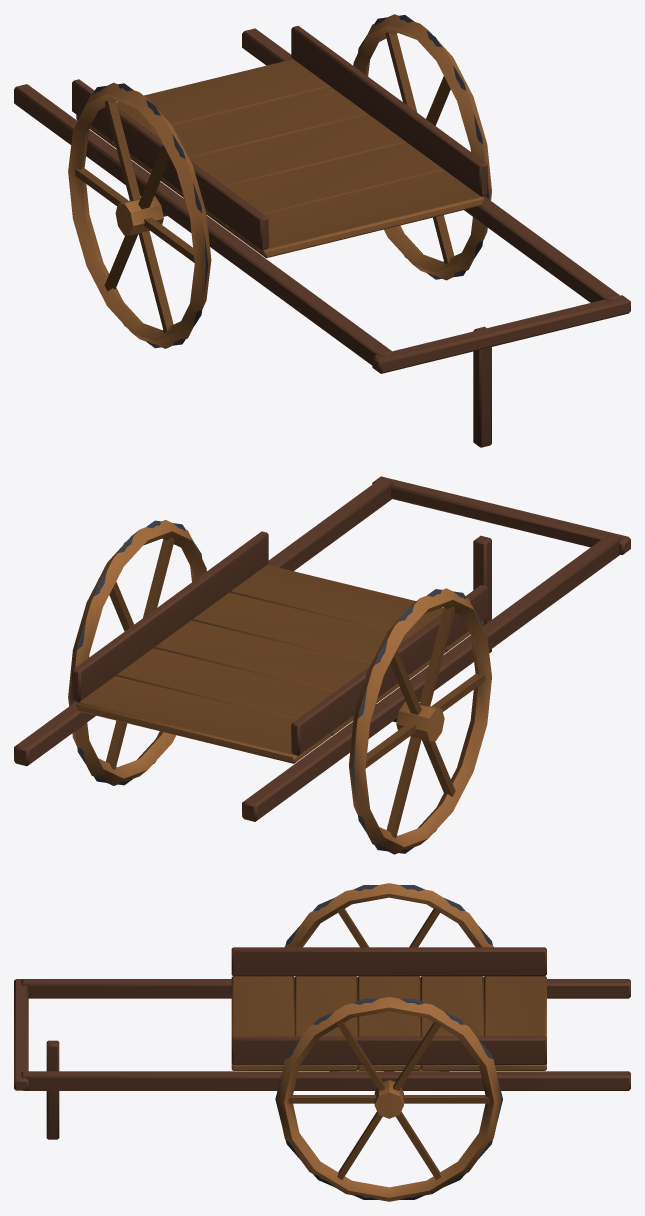
The model's file is cart.glb.
3 renders of one model, top to bottom at view 1: azimuth 30°, elevation 25°; view 2: azimuth 150°, elevation 25°; view 3: azimuth 270°, elevation 25°, orthographic. The views are drawn at different scales.
Visible parts, largest first — view 1: Cart Wood, Cart Dark wood, Cart Iron; view 2: Cart Wood, Cart Dark wood, Cart Iron; view 3: Cart Dark wood, Cart Wood, Cart Iron.
Part boxes in pixels (x1=…): Cart Wood: x1=68, y1=14, x2=491, y2=348; Cart Dark wood: x1=14, y1=25, x2=630, y2=447; Cart Iron: x1=77, y1=15, x2=488, y2=348; Cart Wood: x1=68, y1=520, x2=491, y2=854; Cart Dark wood: x1=14, y1=476, x2=630, y2=821; Cart Iron: x1=71, y1=520, x2=482, y2=853; Cart Dark wood: x1=14, y1=947, x2=630, y2=1139; Cart Wood: x1=231, y1=883, x2=546, y2=1201; Cart Iron: x1=275, y1=885, x2=502, y2=1199.
Bounding box in the file's own units: 1.42 × 1.08 × 2.94.
